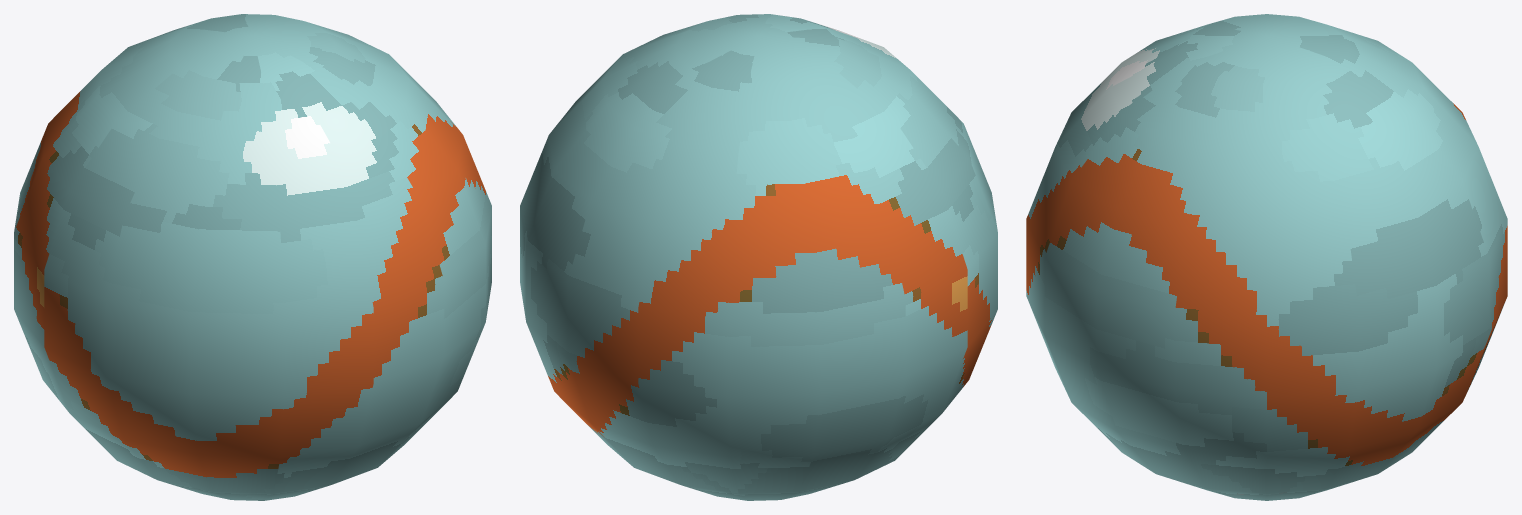
The model's file is marble.glb.
3 renders of one model, left to right at view 1: azimuth 30°, elevation 25°; view 2: azimuth 150°, elevation 25°; view 3: azimuth 270°, elevation 25°, orthographic.
Visible parts, largest first — view 1: marble; view 2: marble; view 3: marble.
Boxes of the visible parts, <box> form: marble: <box>14,14,491,500</box>; marble: <box>520,14,997,500</box>; marble: <box>1026,14,1507,500</box>.
Size of the model in its own units: 0.0158 by 0.016 by 0.0158.
1 material, 1 textured.
